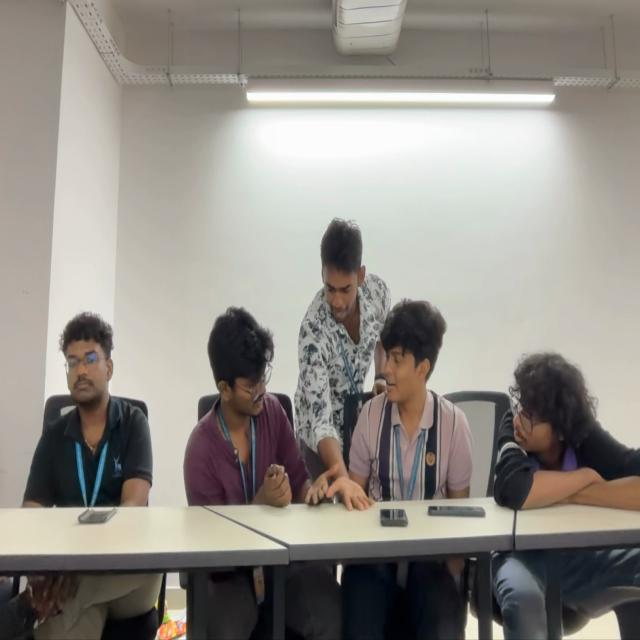Isolated: (24, 311, 152, 505), (491, 352, 640, 508)
socializing: (183, 218, 471, 497)
